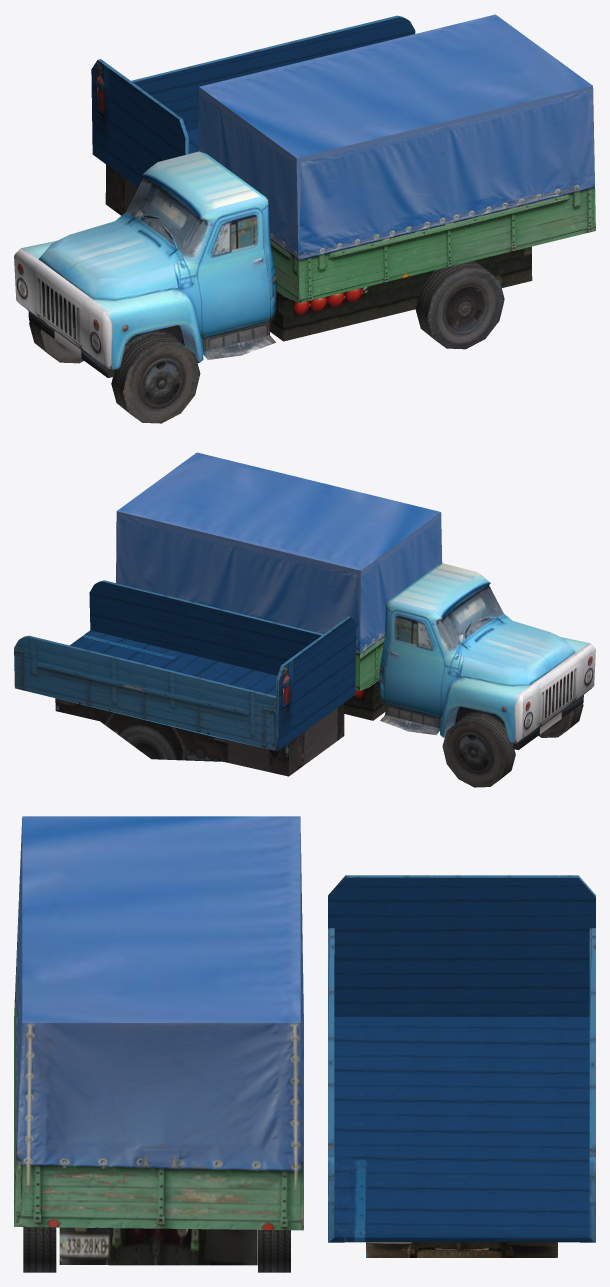
File: gaz.FBX
3 views of the same model, one above another, from view 1: azimuth 30°, elevation 25°; view 2: azimuth 150°, elevation 25°; view 3: azimuth 270°, elevation 25° (orthographic). The views are drawn at different scales.
Parts seen in each view (by area): view 1: kuzov1, body, kuzov; view 2: kuzov, kuzov1, body; view 3: kuzov1, kuzov, body.
Boxes of the visible parts, x1=… form: kuzov1: x1=198, y1=14, x2=595, y2=341; body: x1=14, y1=151, x2=504, y2=423; kuzov: x1=91, y1=15, x2=415, y2=215; kuzov: x1=14, y1=580, x2=356, y2=776; kuzov1: x1=116, y1=452, x2=442, y2=720; body: x1=379, y1=563, x2=595, y2=787; kuzov1: x1=14, y1=816, x2=303, y2=1265; kuzov: x1=328, y1=875, x2=595, y2=1257; body: x1=23, y1=1227, x2=290, y2=1272.
Bounding box in the file's own units: 798 × 349 × 554.
